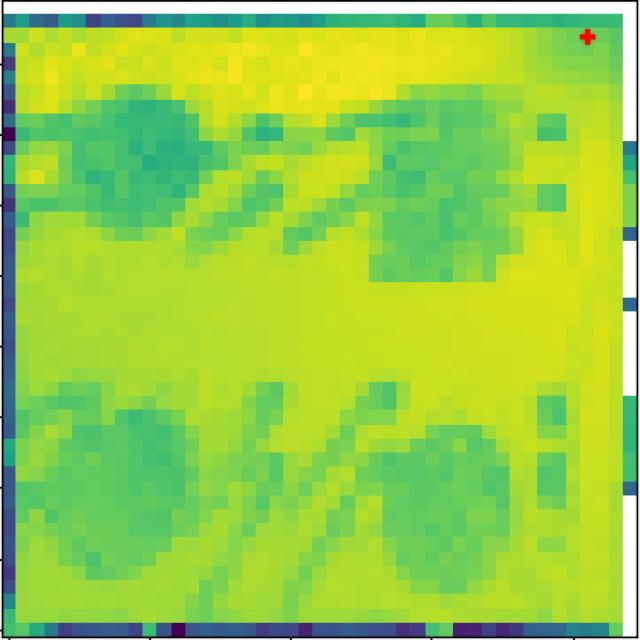Concrete: (372, 393, 522, 602)
Glass: (32, 380, 199, 584)
Metal: (330, 56, 528, 300)
Wood: (49, 68, 204, 241)
